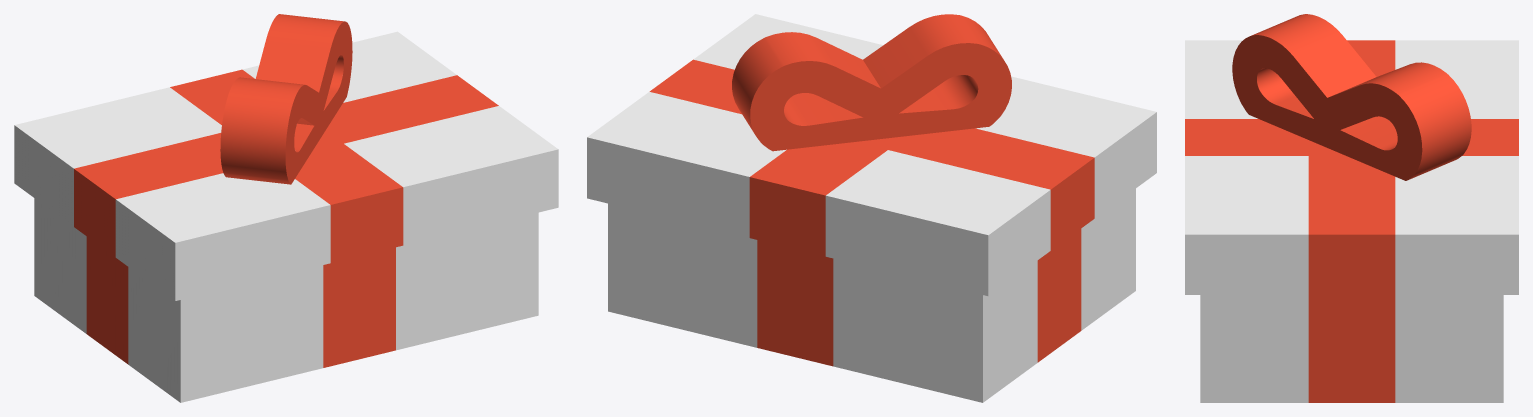
Rendered from presentLow.dae.
The picture shows the model from 3 angles, left to right: view 1: azimuth 30°, elevation 25°; view 2: azimuth 150°, elevation 25°; view 3: azimuth 270°, elevation 25°; orthographic projection. The views are drawn at different scales.
Visible parts, largest first — view 1: lid, presentLow, tie; view 2: lid, presentLow, tie; view 3: lid, presentLow, tie.
Part boxes in pixels (<box>): lid: <box>14,31,558,300</box>; presentLow: <box>34,198,538,402</box>; tie: <box>220,14,352,184</box>; lid: <box>587,14,1156,296</box>; presentLow: <box>608,188,1135,402</box>; tie: <box>732,14,1011,151</box>; lid: <box>1185,40,1518,294</box>; presentLow: <box>1200,295,1503,402</box>; tie: <box>1232,14,1471,180</box>.
Size of the model in its own units: 0.5127 by 0.3212 by 0.3727.
